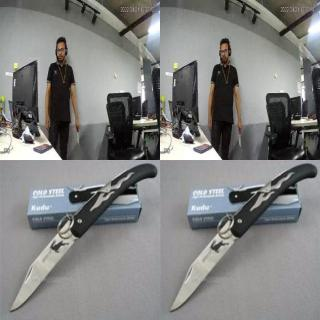knife: (166, 218, 243, 312), (7, 218, 83, 312), (237, 130, 243, 148), (75, 129, 80, 148)
